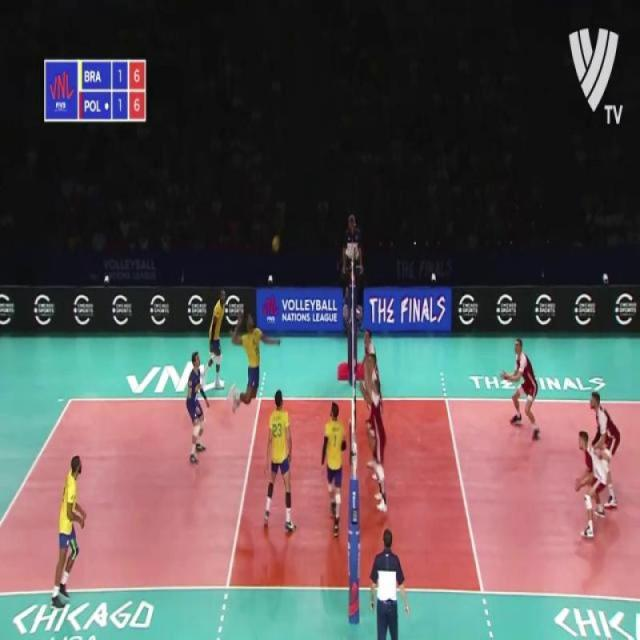volleyball: (272, 238, 282, 254)
